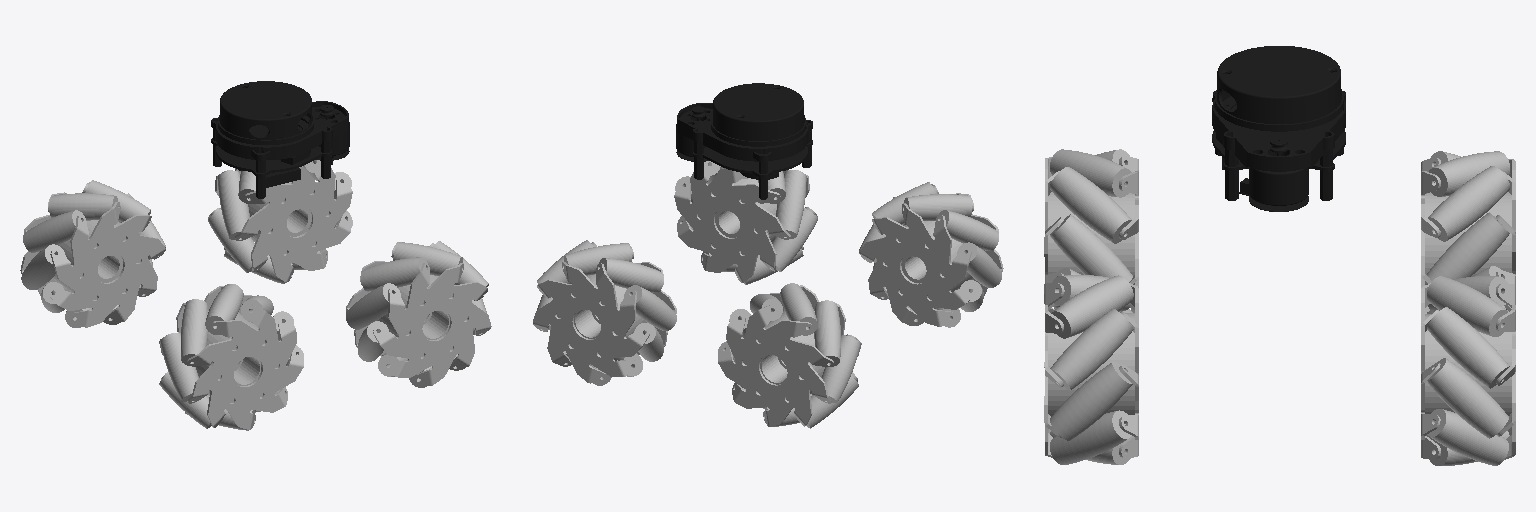
URDF robot description (rubot):
<?xml version="1.0" encoding="utf-8"?>
<!-- =================================================================================== -->
<!-- |    This document was autogenerated by xacro from rubot_mecanum.xacro            | -->
<!-- |    EDITING THIS FILE BY HAND IS NOT RECOMMENDED                                 | -->
<!-- =================================================================================== -->
<robot name="rubot">
  <material name="yellow">
    <color rgba="0.8 0.8 0.0 1.0"/>
  </material>
  <material name="black">
    <color rgba="0.15 0.15 0.15 1.0"/>
  </material>
  <material name="dark_grey">
    <color rgba="0.2 0.2 0.2 1.0"/>
  </material>
  <material name="light_grey">
    <color rgba="0.75 0.75 0.75 1.0"/>
  </material>

<!-- base_footprint reference frame without inertia is needed -->
  <link name="base_footprint"/>
<!-- base_link -->
  <joint name="base_link_joint" type="fixed">
    <origin rpy="0 0 0" xyz="0 0 0"/>
    <parent link="base_footprint"/>
    <child link="base_link"/>
  </joint>
  <link name="base_link">
    <visual>
      <origin rpy="0 0 0" xyz="0 0 0"/>
      <geometry>
        <mesh filename="package://rubot_mecanum_description/meshes/rubot/base_link.stl" scale="0.001 0.001 0.001"/>
      </geometry>
      <material name="yellow"/>
    </visual>
    <collision>
      <origin xyz="0 0 0"/>
      <geometry>
        <box size="0.23 0.12 0.05"/>
      </geometry>
    </collision>
    <inertial>
      <origin rpy="0 0 0" xyz="0 0 0"/>
      <mass value="5"/>
      <inertia ixx="0.0104" ixy="0" ixz="0" iyy="0.0292" iyz="0" izz="0.0375"/>
    </inertial>
  </link>
<!-- upper_left_wheel -->
  <joint name="upper_left_wheel_joint" type="continuous">
    <origin rpy="0 0 0" xyz="0.07 0.1 0"/>
    <parent link="base_link"/>
    <child link="upper_left_wheel"/>
    <axis xyz="0 1 0"/>
  </joint>
  <link name="upper_left_wheel">
    <visual>
      <origin rpy="0 0 0" xyz="0 0 0"/>
      <geometry>
        <mesh filename="package://rubot_mecanum_description/meshes/rubot/upper_left_wheel.stl" scale="0.001 0.001 0.001"/>
      </geometry>
      <material name="light_grey"/>
    </visual>
    <collision>
      <origin rpy="-1.57 0 0" xyz="0 0 0"/>
      <geometry>
        <cylinder length="0.03" radius="0.055"/>
      </geometry>
    </collision>
    <inertial>
      <mass value="0.2"/>
      <inertia ixx="0.000166" ixy="0" ixz="0" iyy="0.000303" iyz="0" izz="0.000166"/>
    </inertial>
  </link>
<!-- lower_left_wheel -->
  <joint name="lower_left_wheel_joint" type="continuous">
    <origin rpy="0 0 0" xyz="-0.085 0.1 0"/>
    <parent link="base_link"/>
    <child link="lower_left_wheel"/>
    <axis xyz="0 1 0"/>
  </joint>
  <link name="lower_left_wheel">
    <visual>
      <origin rpy="0 0 0" xyz="0 0 0"/>
      <geometry>
        <mesh filename="package://rubot_mecanum_description/meshes/rubot/lower_left_wheel.stl" scale="0.001 0.001 0.001"/>
      </geometry>
      <material name="light_grey"/>
    </visual>
    <collision>
      <origin rpy="-1.57 0 0" xyz="0 0 0"/>
      <geometry>
        <cylinder length="0.03" radius="0.055"/>
      </geometry>
    </collision>
    <inertial>
      <mass value="0.2"/>
      <inertia ixx="0.000166" ixy="0" ixz="0" iyy="0.000303" iyz="0" izz="0.000166"/>
    </inertial>
  </link>
<!-- upper_right_wheel -->
  <joint name="upper_right_wheel_joint" type="continuous">
    <origin rpy="0 0 3.14" xyz="0.07 -0.1 0"/>
    <parent link="base_link"/>
    <child link="upper_right_wheel"/>
    <axis xyz="0 -1 0"/>
  </joint>
  <link name="upper_right_wheel">
    <visual>
      <origin rpy="0 0 0" xyz="0 0 0"/>
      <geometry>
        <mesh filename="package://rubot_mecanum_description/meshes/rubot/upper_right_wheel.stl" scale="0.001 0.001 0.001"/>
      </geometry>
      <material name="light_grey"/>
    </visual>
    <collision>
      <origin rpy="-1.57 0 0" xyz="0 0 0"/>
      <geometry>
        <cylinder length="0.03" radius="0.055"/>
      </geometry>
    </collision>
    <inertial>
      <mass value="0.2"/>
      <inertia ixx="0.000166" ixy="0" ixz="0" iyy="0.000303" iyz="0" izz="0.000166"/>
    </inertial>
  </link>
<!-- lower_right_wheel -->
  <joint name="lower_right_wheel_joint" type="continuous">
    <origin rpy="0 0 3.14" xyz="-0.085 -0.1 0"/>
    <parent link="base_link"/>
    <child link="lower_right_wheel"/>
    <axis xyz="0 -1 0"/>
  </joint>
  <link name="lower_right_wheel">
    <visual>
      <origin rpy="0 0 0" xyz="0 0 0"/>
      <geometry>
        <mesh filename="package://rubot_mecanum_description/meshes/rubot/lower_right_wheel.stl" scale="0.001 0.001 0.001"/>
      </geometry>
      <material name="light_grey"/>
    </visual>
    <collision>
      <origin rpy="-1.57 0 0" xyz="0 0 0"/>
      <geometry>
        <cylinder length="0.03" radius="0.055"/>
      </geometry>
    </collision>
    <inertial>
      <mass value="0.2"/>
      <inertia ixx="0.000166" ixy="0" ixz="0" iyy="0.000303" iyz="0" izz="0.000166"/>
    </inertial>
  </link> -->
<!-- 2D Camera as a mesh of actual PiCamera -->
  <joint name="joint_camera" type="fixed">
    <origin rpy="0 0 0" xyz="0.120 0.0 0.09"/>
    <parent link="base_link"/>
    <child link="camera"/>
    <axis xyz="0 1 0"/>
  </joint>
  <link name="camera">
    <visual>
      <origin rpy="0 0 0" xyz="0 0 0"/>
      <geometry>
        <mesh filename="package://rubot_mecanum_description/meshes/rubot/piCamera.stl" scale="0.001 0.001 0.001"/>
      </geometry>
      <material name="black"/>
    </visual>
    <collision>
      <origin rpy="0 1.570795 0" xyz="0 0 -0.02"/>
      <geometry>
        <box size="0.05 0.05 0.025"/>
      </geometry>
    </collision>
    <inertial>
      <origin rpy="0 1.570795 0" xyz="0 0 0"/>
      <mass value="0.01"/>
      <inertia ixx="1e-6" ixy="0" ixz="0" iyy="1e-6" iyz="0" izz="1e-6"/>
    </inertial>
  </link>
  <!-- LIDAR base_scan -->
  <link name="base_scan">
    <visual>
      <origin rpy="0 0 3.14" xyz="0 0 0.0"/>
      <geometry>
        <mesh filename="package://rubot_mecanum_description/meshes/rubot/Lidar.stl" scale="0.001 0.001 0.001"/>
      </geometry>
      <material name="black"/>
    </visual>
    <collision>
      <origin rpy="0 0 0" xyz="0 0 0"/>
      <geometry>
        <cylinder length="0.05" radius="0.05"/>
      </geometry>
    </collision>
    <inertial>
      <origin rpy="0 0 0" xyz="0 0 0.4"/>
      <mass value="0.05"/>
      <inertia ixx="0.001" ixy="0.0" ixz="0.0" iyy="0.001" iyz="0.0" izz="0.001"/>
    </inertial>
  </link>
  <joint name="scan_joint" type="fixed">
    <axis xyz="0 0 1"/>
    <origin rpy="0 0 3.14" xyz="0 0 0.15"/>
    <parent link="base_link"/>
    <child link="base_scan"/>
  </joint>
  <!-- Box part -->
  <joint name="joint_part" type="fixed">
    <origin rpy="0 0 0" xyz="-0.10 0.0 0.09"/>
    <parent link="base_link"/>
    <child link="part"/>
  </joint>
  <link name="part">
    <visual>
      <origin rpy="0 0 0" xyz="0 0 0"/>
      <geometry>
        <mesh filename="package://rubot_mecanum_description/meshes/rubot/number2.stl" scale="0.0008 0.0008 0.0008"/>
      </geometry>
      <material name="black"/>
    </visual>
    <collision>
      <origin rpy="0 0 0" xyz="0 0 0"/>
      <geometry>
        <box size="0.05 0.05 0.025"/>
      </geometry>
    </collision>
    <inertial>
      <mass value="0.01"/>
      <inertia ixx="1e-6" ixy="0" ixz="0" iyy="1e-6" iyz="0" izz="1e-6"/>
    </inertial>
  </link>
  <!-- Mecanum drive controller -->
  <gazebo>
    <plugin name="Mecanum_controller" filename="libgazebo_ros_planar_move.so">
      <commandTopic>cmd_vel</commandTopic>
      <odometryTopic>odom</odometryTopic>
      <odometryFrame>odom</odometryFrame>
      <odometrySource>world</odometrySource>
      <publishOdomTF>true</publishOdomTF>
      <odometryRate>50.0</odometryRate>
      <robotBaseFrame>base_footprint</robotBaseFrame>
      <publishWheelTF>false</publishWheelTF>
      <publishTf>true</publishTf>
      <publishWheelJointState>true</publishWheelJointState>
      <wheelAcceleration>0.5</wheelAcceleration>
      <wheelTorque>1</wheelTorque>
      <legacyMode>false</legacyMode>
      <updateRate>30</updateRate>
      <leftFrontJoint>upper_left_wheel_joint</leftFrontJoint>
      <rightFrontJoint>upper_right_wheel_joint</rightFrontJoint>
      <leftRearJoint>lower_left_wheel_joint</leftRearJoint>
      <rightRearJoint>lower_right_wheel_joint</rightRearJoint>
    </plugin>
  </gazebo>
  <!-- 2D Camera controller -->
  <gazebo reference="camera">
    <sensor name="camera1" type="camera">
      <update_rate>30.0</update_rate>
      <camera name="front">
        <horizontal_fov>1.3962634</horizontal_fov>
        <image>
          <width>320</width>
          <height>240</height>
          <format>R8G8B8</format>
        </image>
        <clip>
          <near>0.02</near>
          <far>300</far>
        </clip>
      </camera>
      <plugin filename="libgazebo_ros_camera.so" name="camera_controller">
        <alwaysOn>true</alwaysOn>
        <visualize>false</visualize>
        <cameraName>rubot/camera1</cameraName>
        <imageTopicName>image_raw</imageTopicName>
        <cameraInfoTopicName>camera_info</cameraInfoTopicName>
        <frameName>camera</frameName>
        <hackBaseline>0.07</hackBaseline>
        <distortionK1>0.0</distortionK1>
        <distortionK2>0.0</distortionK2>
        <distortionK3>0.0</distortionK3>
        <distortionT1>0.0</distortionT1>
        <distortionT2>0.0</distortionT2>
      </plugin>
    </sensor>
  </gazebo>
  <!-- Laser Distance Sensor YDLIDAR X4 controller-->
  <gazebo reference="base_scan">
    <sensor name="lds_lfcd_sensor" type="ray">
      <pose>0 0 0 0 0 0</pose>
      <visualize>false</visualize>
      <update_rate>5</update_rate>
      <ray>
        <scan>
          <horizontal>
            <samples>720</samples>
            <resolution>1</resolution>
            <min_angle>0.0</min_angle>
            <max_angle>6.28319</max_angle>
          </horizontal>
        </scan>
        <range>
          <min>0.12</min>
          <max>10</max>
          <resolution>0.015</resolution>
        </range>
        <noise>
          <type>gaussian</type>
          <!-- Noise parameters based on published spec for YDLIDAR X4
              is 1.5% at half range 4m (= 60mm, "+-160mm" accuracy at max. range 8m).
              A mean of 0.0m and stddev of 0.020m will put 99.7% of samples
              within 0.16m of the true reading. -->
          <mean>0.0</mean>
          <stddev>0.02</stddev>
        </noise>
      </ray>
      <plugin filename="libgazebo_ros_laser.so" name="gazebo_ros_lds_lfcd_controller">
        <!-- topicName>/gopigo/scan</topicName -->
        <topicName>scan</topicName>
        <frameName>base_scan</frameName>
      </plugin>
    </sensor>
  </gazebo>
<!-- Gazebo colors have to be specified here with predefined Gazebo colors -->
  <gazebo reference="base_footprint">
    <material>Gazebo/Yellow</material>
    <gravity>true</gravity>
  </gazebo>
  <gazebo reference="base_link">
    <material>Gazebo/Yellow</material>
  </gazebo>
  <gazebo reference="base_scan">
    <material>Gazebo/DarkGrey</material>
  </gazebo>
  <gazebo reference="camera">
    <material>Gazebo/Green</material>
  </gazebo>
  <gazebo reference="part">
    <material>Gazebo/Green</material>
  </gazebo>
  <gazebo reference="upper_left_wheel">
    <material>Gazebo/Grey</material>
    <mu1>0.5</mu1>
    <mu2>0.5</mu2>
    <kp>1000</kp>
    <ki>100</ki>
    <kd>1</kd>
    <minDepth>0.001</minDepth>
    <maxVel>0.5</maxVel>
    <fdir1>1 0 0</fdir1>
  </gazebo>
  <gazebo reference="lower_left_wheel">
    <material>Gazebo/Grey</material>
    <mu1>0.5</mu1>
    <mu2>0.5</mu2>
    <kp>1000</kp>
    <ki>100</ki>
    <kd>1</kd>
    <minDepth>0.001</minDepth>
    <maxVel>0.5</maxVel>
    <fdir1>1 0 0</fdir1>
  </gazebo>
  <gazebo reference="upper_right_wheel">
    <material>Gazebo/Grey</material>
    <mu1>0.5</mu1>
    <mu2>0.5</mu2>
    <kp>1000</kp>
    <ki>100</ki>
    <kd>1</kd>
    <minDepth>0.001</minDepth>
    <maxVel>0.5</maxVel>
    <fdir1>1 0 0</fdir1>
  </gazebo>
  <gazebo reference="lower_right_wheel">
    <material>Gazebo/Grey</material>
    <mu1>0.5</mu1>
    <mu2>0.5</mu2>
    <kp>1000</kp>
    <ki>100</ki>
    <kd>1</kd>
    <minDepth>0.001</minDepth>
    <maxVel>0.5</maxVel>
    <fdir1>1 0 0</fdir1>
  </gazebo>
</robot>

--- Facts derived from the render (not from the file) ---
Views: 3 orthographic renders of the robot side by side, from view 1: azimuth 30°, elevation 25°; view 2: azimuth 150°, elevation 25°; view 3: azimuth 270°, elevation 25°.
Model rubot with 9 links and 8 joints (4 continuous, 4 fixed), rooted at base_footprint, posed all joints at 0.
Links seen in each view (by area): view 1: lower_right_wheel, upper_right_wheel, lower_left_wheel, upper_left_wheel, base_scan; view 2: lower_left_wheel, upper_left_wheel, lower_right_wheel, upper_right_wheel, base_scan; view 3: base_scan, upper_left_wheel, upper_right_wheel, lower_right_wheel, lower_left_wheel.
Boxes of the visible links, box(x1,y1,x2,y2) form: lower_right_wheel: box(159, 284, 303, 430); upper_right_wheel: box(346, 241, 491, 387); lower_left_wheel: box(20, 180, 165, 327); upper_left_wheel: box(208, 160, 352, 283); base_scan: box(211, 81, 349, 198); lower_left_wheel: box(718, 283, 861, 428); upper_left_wheel: box(533, 240, 676, 385); lower_right_wheel: box(859, 182, 1003, 327); upper_right_wheel: box(674, 161, 817, 284); base_scan: box(676, 83, 812, 199); base_scan: box(1212, 46, 1345, 211); upper_left_wheel: box(1421, 276, 1515, 465); upper_right_wheel: box(1044, 275, 1138, 464); lower_right_wheel: box(1044, 149, 1138, 312); lower_left_wheel: box(1421, 151, 1515, 313).
Size in the robot's own frame: 0.257 by 0.2501 by 0.1936 metres.
Meshes: 8 distinct files referenced, 6 mesh visuals loaded (6 binary STL); not drawn: 2 (reference not matched to a file when rendering).
